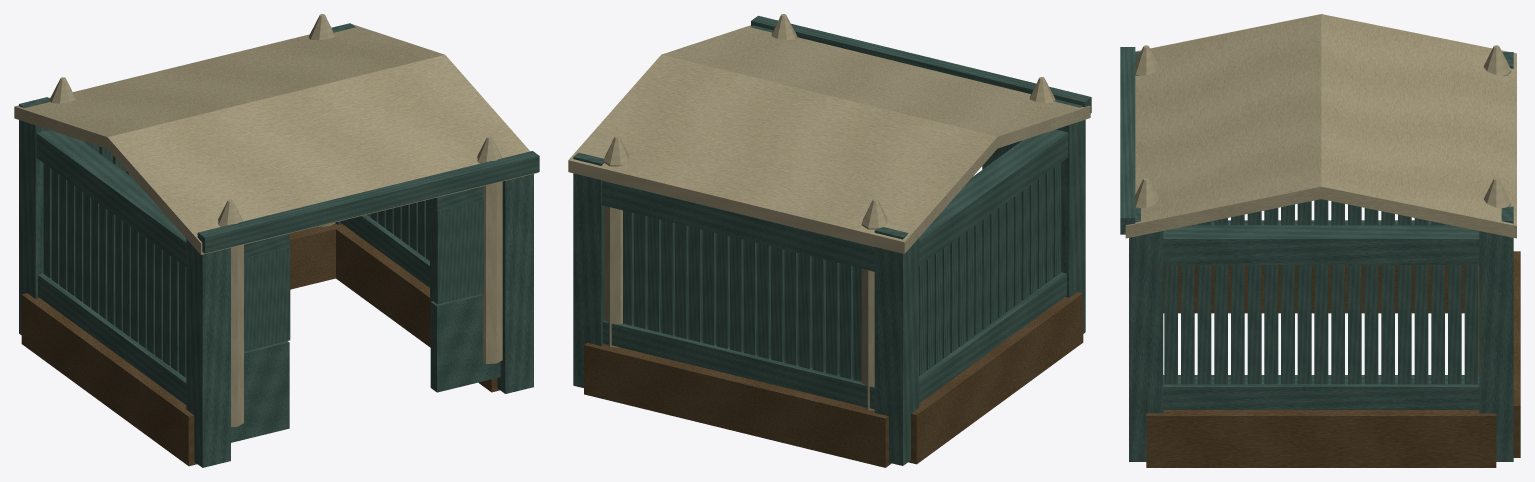
3 views of the same model, side by side, from view 1: azimuth 30°, elevation 25°; view 2: azimuth 150°, elevation 25°; view 3: azimuth 270°, elevation 25° (orthographic). The views are drawn at different scales.
Parts seen in each view (by area): view 1: garrison_part_0001, garrison_part_0000; view 2: garrison_part_0001, garrison_part_0000; view 3: garrison_part_0001, garrison_part_0000.
Part boxes in pixels (x1=…): garrison_part_0001: x1=14, y1=14, x2=539, y2=467; garrison_part_0000: x1=21, y1=223, x2=499, y2=466; garrison_part_0001: x1=568, y1=14, x2=1091, y2=465; garrison_part_0000: x1=584, y1=292, x2=1083, y2=467; garrison_part_0001: x1=1120, y1=14, x2=1516, y2=461; garrison_part_0000: x1=1146, y1=251, x2=1520, y2=467.
Bounding box in the file's own units: 362 × 270 × 349.
